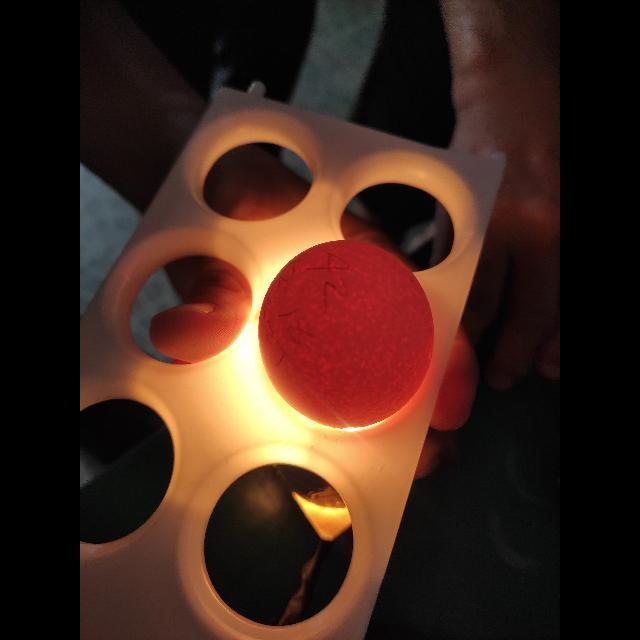Infertile: (258, 232, 438, 433)
